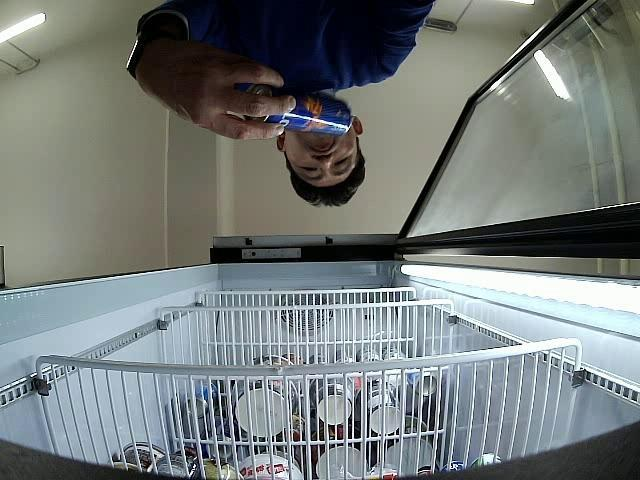16_hot6: (244, 84, 354, 136)
